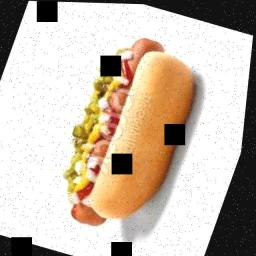hotdog: (37, 20, 216, 246)
